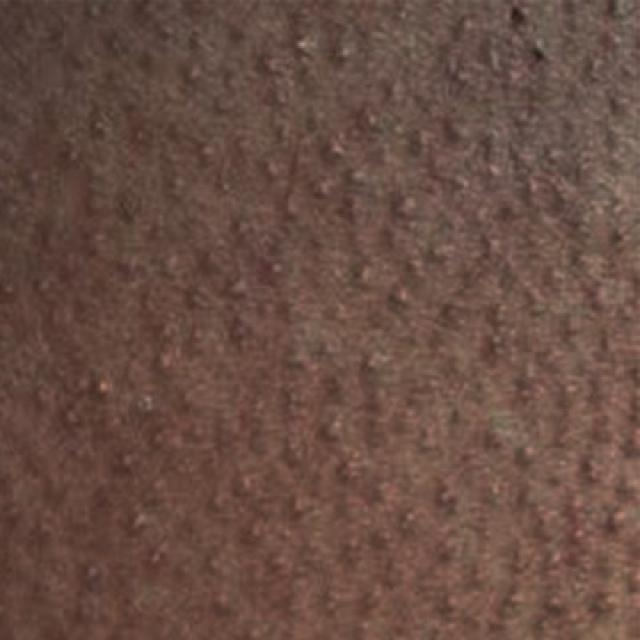keratosis pilaris: (1, 4, 638, 638)
